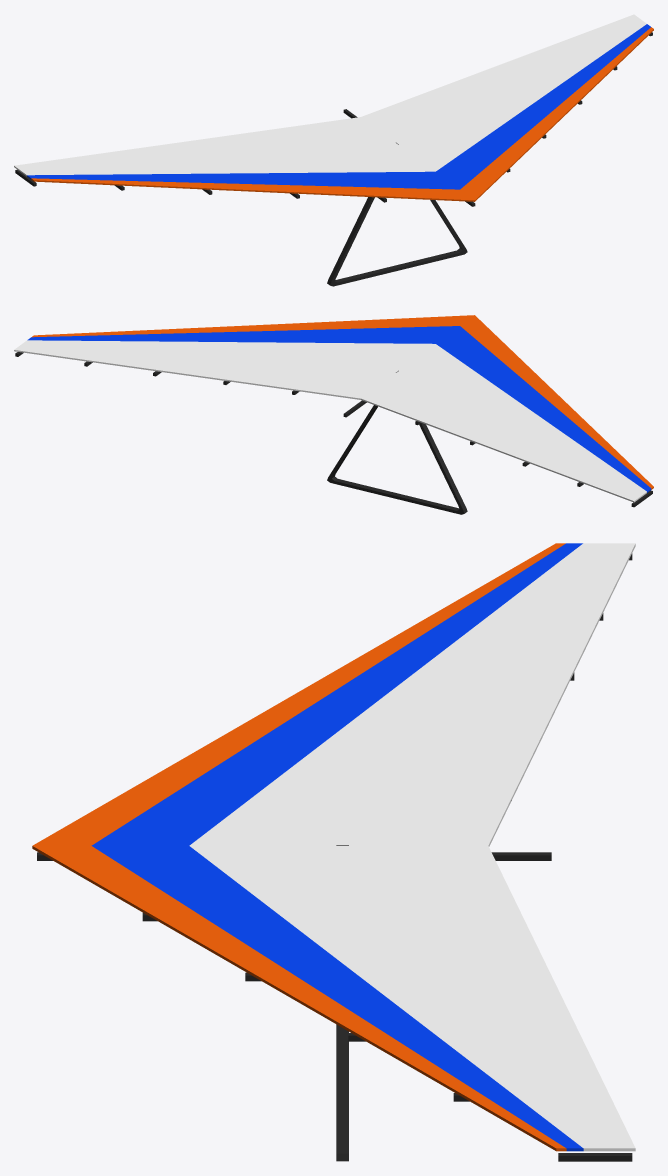
File: Hang glider.glb
The picture shows the model from 3 angles, top to bottom: view 1: azimuth 30°, elevation 25°; view 2: azimuth 150°, elevation 25°; view 3: azimuth 270°, elevation 25°; orthographic projection. The views are drawn at different scales.
Visible parts, largest first — view 1: Node; view 2: Node; view 3: Node.
Boxes of the visible parts, x1=… form: Node: x1=14, y1=14, x2=653, y2=286; Node: x1=14, y1=315, x2=653, y2=514; Node: x1=32, y1=543, x2=635, y2=1161.
Size of the model in its own units: 8 by 1.55 by 3.37.
